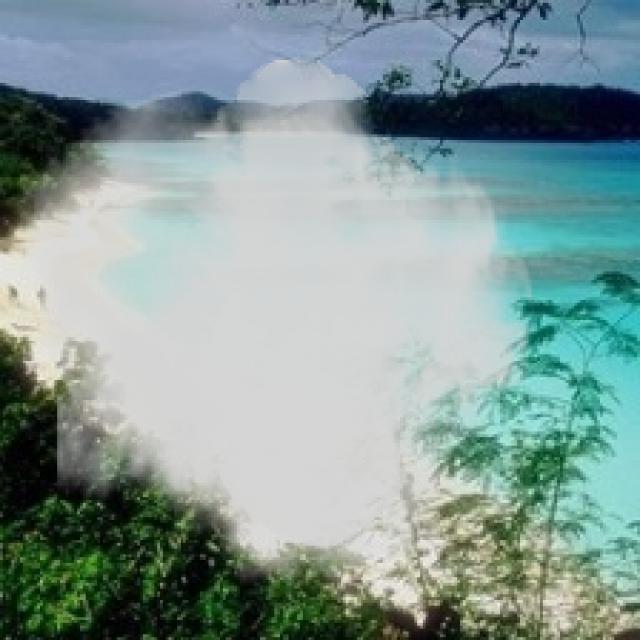Smoke: (11, 57, 540, 603)
